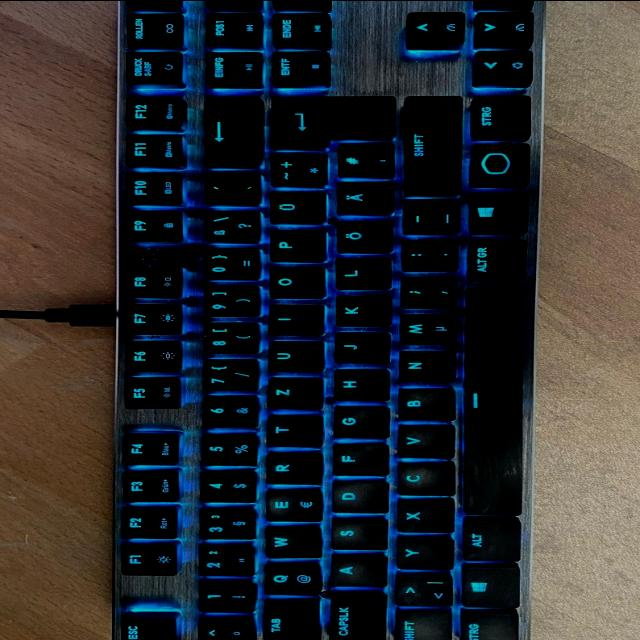0: (200, 248, 260, 282)
1: (195, 581, 254, 614)
2: (194, 545, 253, 578)
3: (196, 507, 255, 541)
4: (195, 470, 255, 504)
5: (197, 433, 256, 467)
6: (198, 395, 258, 429)
7: (198, 359, 257, 392)
8: (199, 322, 259, 356)
9: (200, 285, 259, 319)
a: (328, 556, 385, 588)
accent: (201, 172, 260, 206)
ae: (333, 181, 392, 217)
alt-left: (460, 519, 519, 563)
altgr-right: (464, 239, 524, 283)
b: (393, 387, 453, 421)
c: (393, 462, 453, 496)
caret: (194, 618, 253, 640)
comma: (397, 276, 457, 310)
d: (328, 482, 385, 514)
del: (201, 96, 261, 169)
e: (262, 489, 320, 523)
enter: (270, 95, 394, 151)
f: (329, 444, 385, 476)
g: (329, 407, 385, 439)
h: (329, 369, 387, 401)
hash: (334, 143, 392, 181)
i: (265, 304, 322, 337)
j: (329, 332, 387, 364)
k: (331, 295, 390, 328)
keyboard: (108, 0, 549, 640)
l: (331, 258, 390, 292)
less: (391, 575, 451, 609)
m: (395, 313, 455, 346)
minus: (398, 202, 458, 238)
n: (395, 350, 454, 384)
o: (265, 266, 323, 300)
oe: (333, 220, 391, 254)
p: (266, 230, 324, 264)
plus: (266, 152, 326, 188)
point: (398, 239, 457, 273)
q: (261, 563, 319, 598)
r: (263, 452, 319, 486)
s: (328, 519, 385, 551)
shift-left: (391, 611, 449, 640)
shift-lock: (326, 592, 383, 640)
shift-right: (398, 96, 460, 198)
space: (463, 285, 525, 517)
ss: (201, 210, 260, 245)
strg-left: (457, 612, 516, 640), (267, 0, 329, 8)
strg-right: (467, 95, 529, 141)
t: (263, 415, 320, 449)
tab: (259, 600, 317, 640)
u: (265, 340, 323, 374)
ue: (265, 191, 325, 226)
v: (393, 425, 452, 459)
w: (261, 526, 320, 560)
x: (392, 500, 452, 534)
y: (393, 538, 452, 571)
z: (264, 377, 320, 411)
